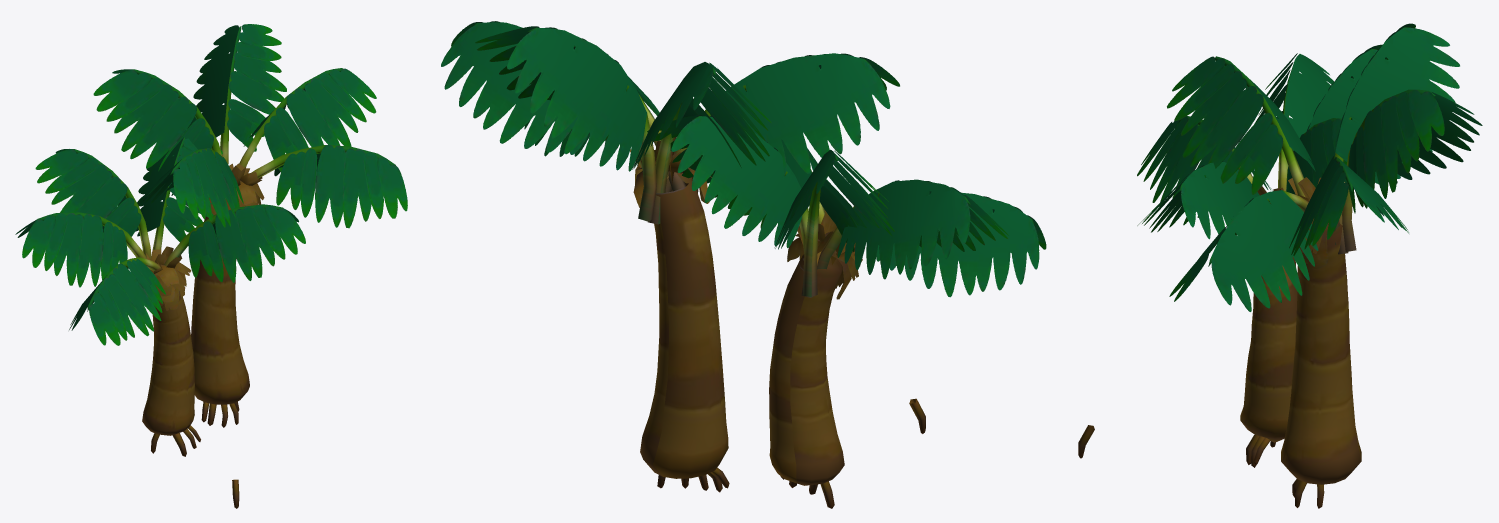
File: palms.glb
3 renders of one model, left to right at view 1: azimuth 30°, elevation 25°; view 2: azimuth 150°, elevation 25°; view 3: azimuth 270°, elevation 25°, orthographic. The views are drawn at different scales.
Bounding box in the file's own units: 44.61 × 39.92 × 31.42.
2 materials, 2 textured.
